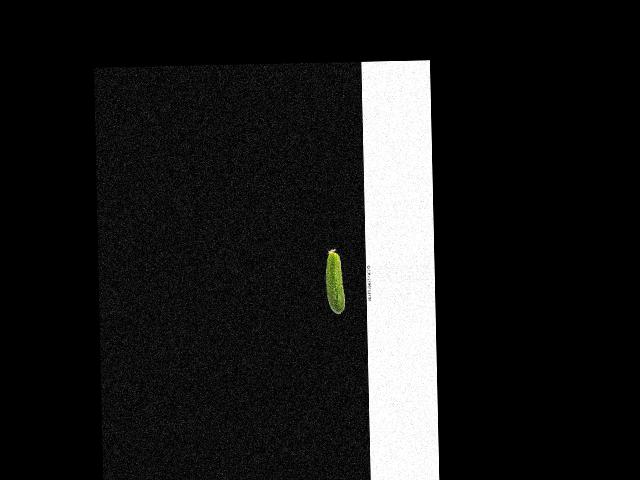cucumber: (325, 249, 345, 314)
